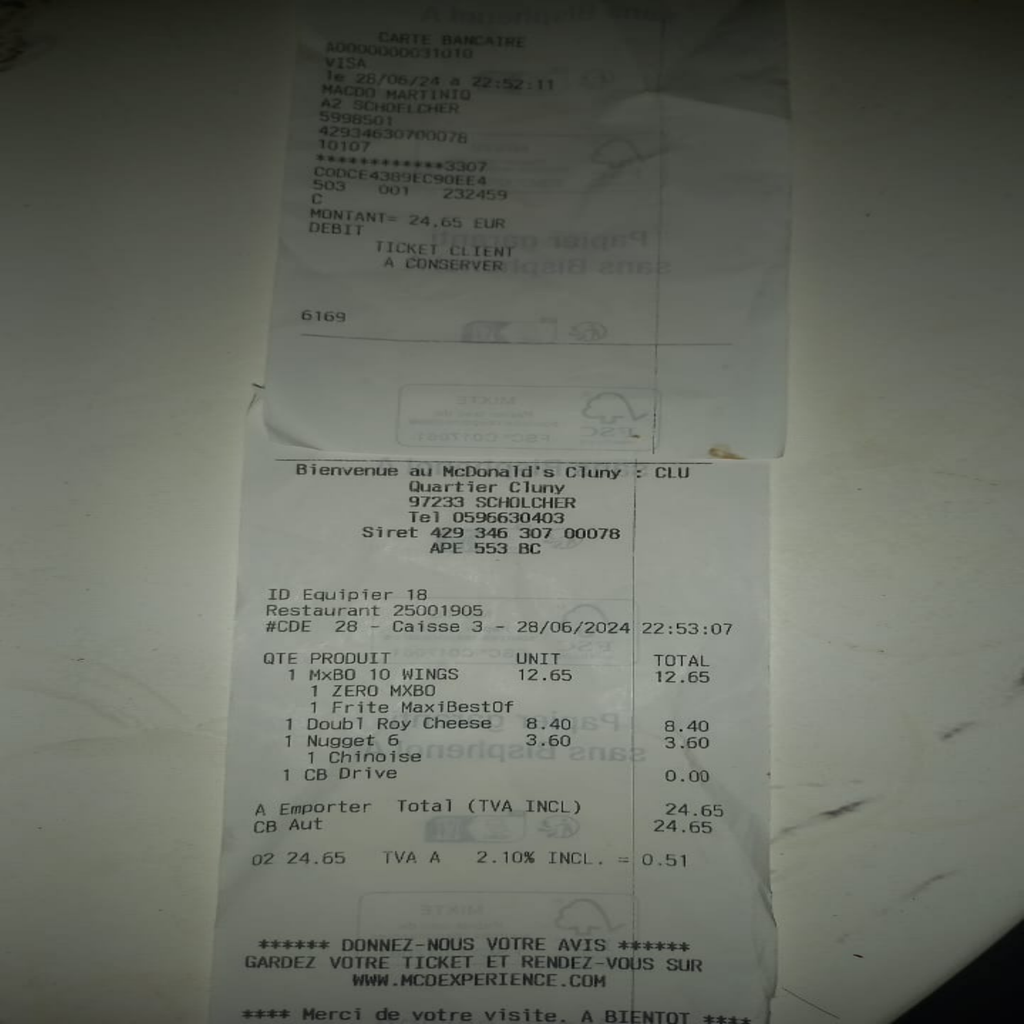recipt: (210, 0, 791, 1024)
